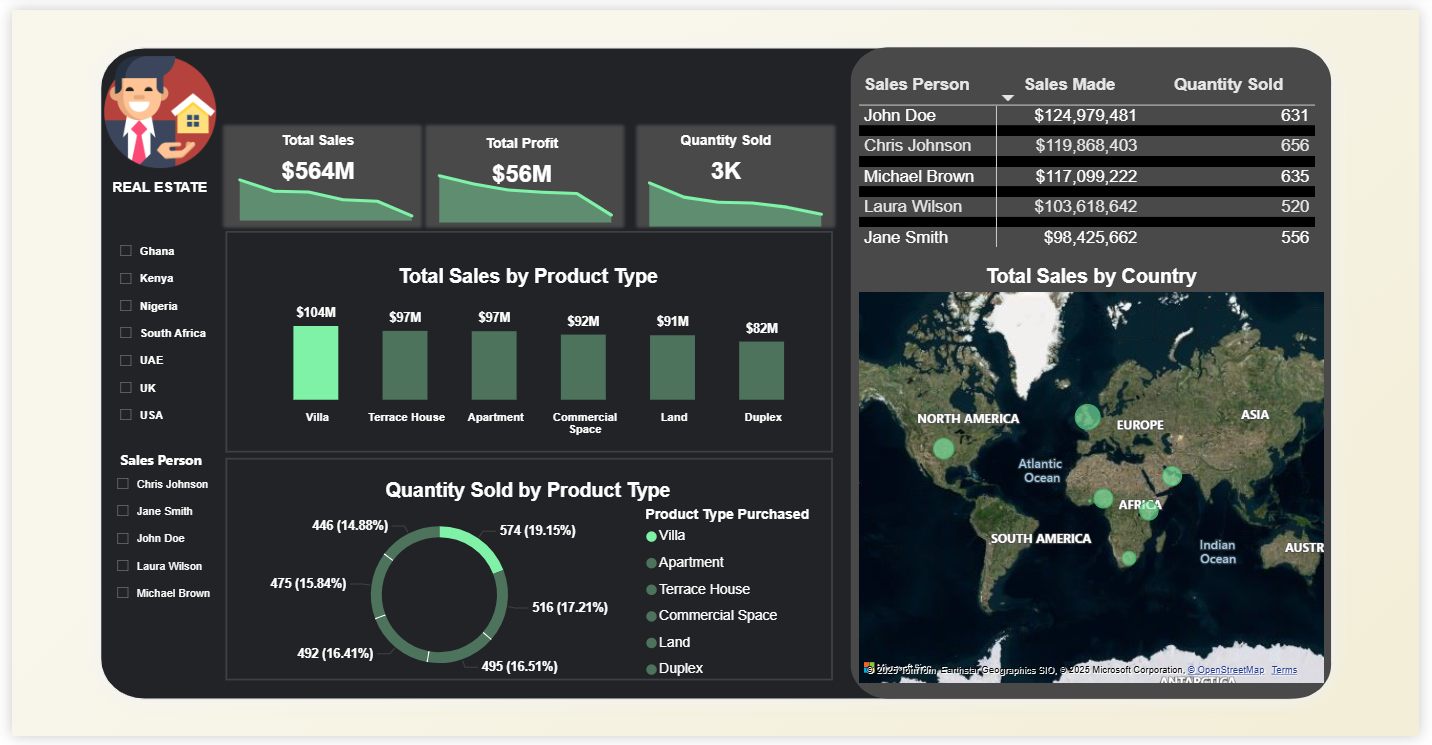

The page's visual inventory and layout, read from the dashboard file:
{"tool":"powerbi","page":{"name":"Page 1","canvas":[1340,691],"ordinal":0},"visuals":[{"type":"cardVisual","fields":{"Data":["MeasureTable.Total Sales Amount"]},"box":[194.3,100,194.3,75.7],"z":0},{"type":"stackedAreaChart","fields":{"Category":["Customer Transactions.Product Type Purchased"],"Y":["MeasureTable.Total Sales Amount"]},"box":[198.6,138.6,200,67.1],"z":1000},{"type":"cardVisual","fields":{"Data":["MeasureTable.Total Profit"]},"box":[388.6,102.9,194.3,75.7],"z":2000},{"type":"cardVisual","fields":{"Data":["MeasureTable.Quantity Sold"]},"box":[582.9,100,194.3,75.7],"z":3000},{"type":"areaChart","fields":{"Y":["MeasureTable.Total Profit"],"Category":["Customer Summary.Product Type Purchased"]},"box":[388.6,141.4,200,67.1],"z":4000},{"type":"areaChart","fields":{"Category":["Customer Transactions.Product Type Purchased"],"Y":["MeasureTable.Quantity Sold"]},"box":[588.6,144.3,200,67.1],"z":5000},{"type":"clusteredColumnChart","title":"Total Sales  by Product Type ","fields":{"Category":["Customer Transactions.Product Type Purchased"],"Y":["MeasureTable.Total Sales Amount"]},"box":[205.7,242.9,571.4,170],"z":6000},{"type":"pivotTable","fields":{"Values":["MeasureTable.Sales by Salesperson","MeasureTable.Quantity Sold"],"Rows":["Customer Transactions.Sales Person"]},"box":[801.4,55.7,471.4,187.1],"z":7000},{"type":"map","title":"Total Sales by Country","fields":{"Category":["Customer Transactions.Country"],"Size":["MeasureTable.Total Sales Amount"]},"box":[801.4,242.9,452.9,402.9],"z":8000},{"type":"image","box":[77.1,38.6,128.6,117.1],"z":9000},{"type":"donutChart","title":"Quantity Sold by Product Type ","fields":{"Category":["Customer Transactions.Product Type Purchased"],"Y":["MeasureTable.Quantity Sold"]},"box":[205.7,447.1,571.4,198.6],"z":10000},{"type":"slicer","fields":{"Values":["Customer Transactions.Country"]},"box":[90,211.4,105.7,201.4],"z":11000},{"type":"slicer","fields":{"Values":["Customer Transactions.Sales Person"]},"box":[87.1,432.9,111.4,157.1],"z":11001},{"type":"textbox","box":[84.3,152.9,112.9,34.3],"z":11002},{"type":"textbox","box":[85.7,412.9,112.9,34.3],"z":11003}]}

Visuals, with their boxes in screenshot pixels (x1, y1, x2, y2), scaled from the page's 1340x691 canvas onto the 1432x745 screenshot:
cardVisual - MeasureTable.Total Sales Amount: pyautogui.locateOnScreen(208, 108, 415, 189)
stackedAreaChart - Customer Transactions.Product Type Purchased x MeasureTable.Total Sales Amount: pyautogui.locateOnScreen(212, 149, 426, 222)
cardVisual - MeasureTable.Total Profit: pyautogui.locateOnScreen(415, 111, 623, 193)
cardVisual - MeasureTable.Quantity Sold: pyautogui.locateOnScreen(623, 108, 831, 189)
areaChart - MeasureTable.Total Profit x Customer Summary.Product Type Purchased: pyautogui.locateOnScreen(415, 152, 629, 225)
areaChart - Customer Transactions.Product Type Purchased x MeasureTable.Quantity Sold: pyautogui.locateOnScreen(629, 156, 843, 228)
"Total Sales  by Product Type " clusteredColumnChart: pyautogui.locateOnScreen(220, 262, 830, 445)
pivotTable - MeasureTable.Sales by Salesperson x MeasureTable.Quantity Sold: pyautogui.locateOnScreen(856, 60, 1360, 262)
"Total Sales by Country" map: pyautogui.locateOnScreen(856, 262, 1340, 696)
image: pyautogui.locateOnScreen(82, 42, 220, 168)
"Quantity Sold by Product Type " donutChart: pyautogui.locateOnScreen(220, 482, 830, 696)
slicer - Customer Transactions.Country: pyautogui.locateOnScreen(96, 228, 209, 445)
slicer - Customer Transactions.Sales Person: pyautogui.locateOnScreen(93, 467, 212, 636)
textbox: pyautogui.locateOnScreen(90, 165, 211, 202)
textbox: pyautogui.locateOnScreen(92, 445, 212, 482)
